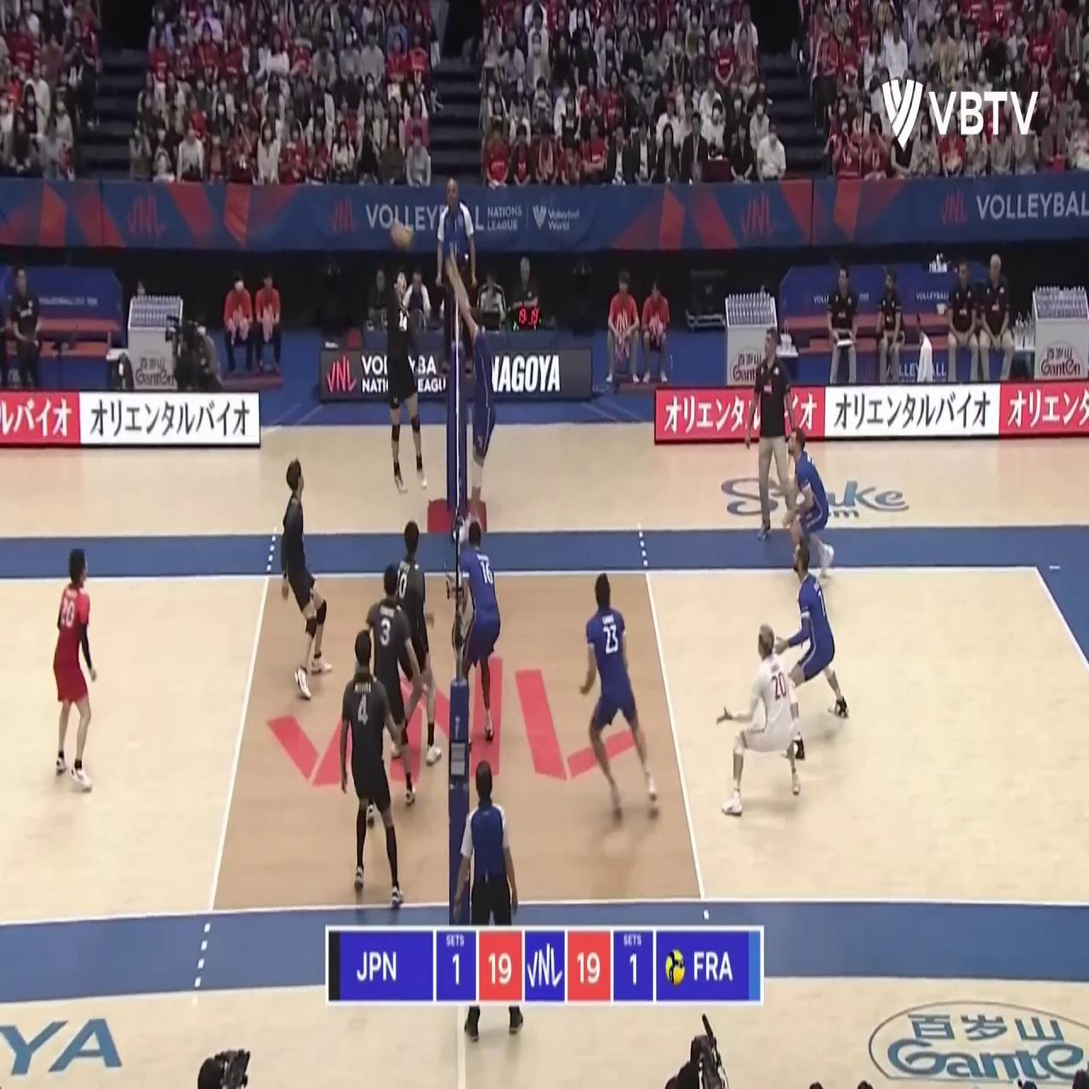ball: (389, 220, 414, 248)
